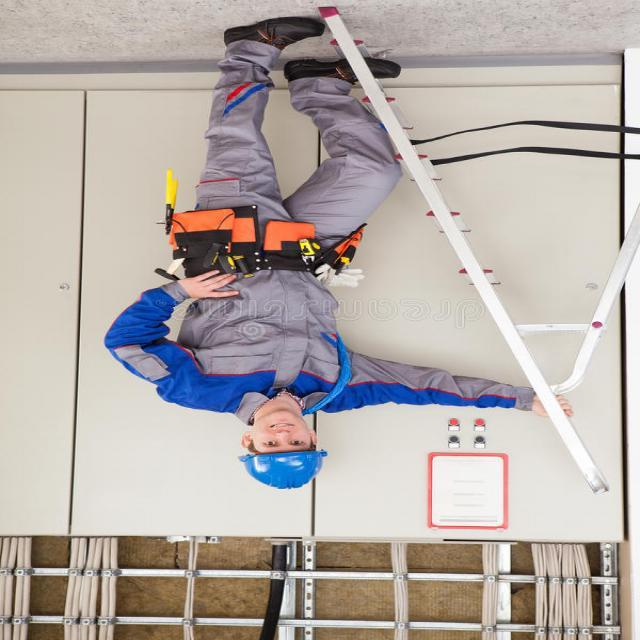safetyhelmet: (233, 406, 336, 489)
